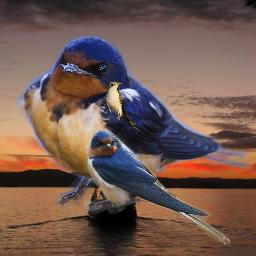Cuckoo: (105, 81, 140, 132)
Swallow: (16, 34, 250, 214), (85, 129, 231, 245)
